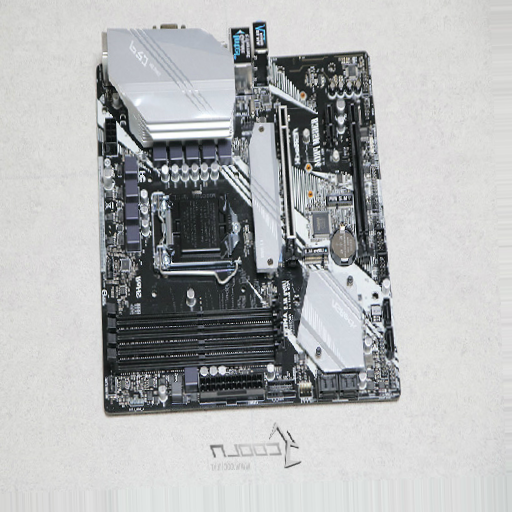CPU: (149, 166, 252, 286)
GPU: (348, 98, 369, 262), (278, 105, 297, 243)
MOTHERBOARD: (95, 21, 402, 416)
RAM: (102, 298, 290, 369)
